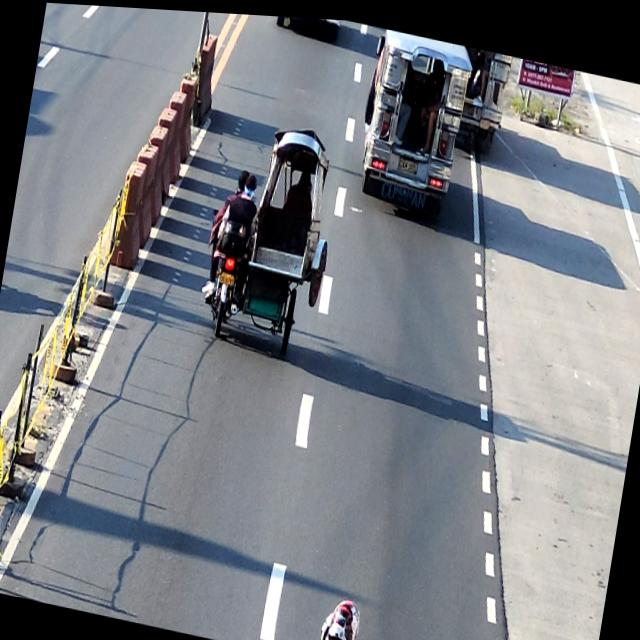Jeep: (352, 22, 475, 208), (448, 40, 513, 153)
License-Plate: (397, 152, 419, 169), (462, 97, 475, 110)
Tricycle: (239, 116, 346, 308)
